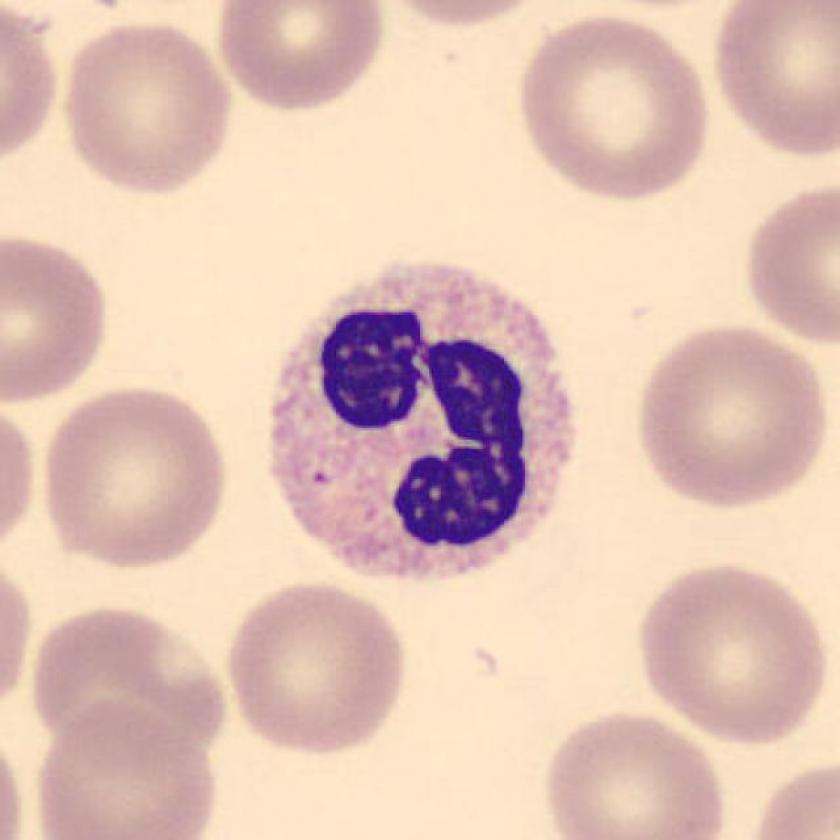neutrophil: (271, 264, 576, 579)
